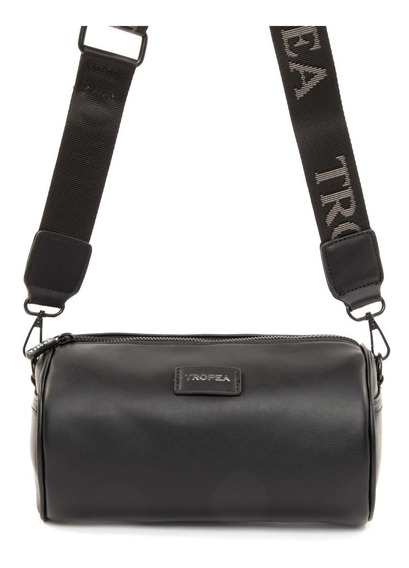cartera: (23, 23, 392, 533)
